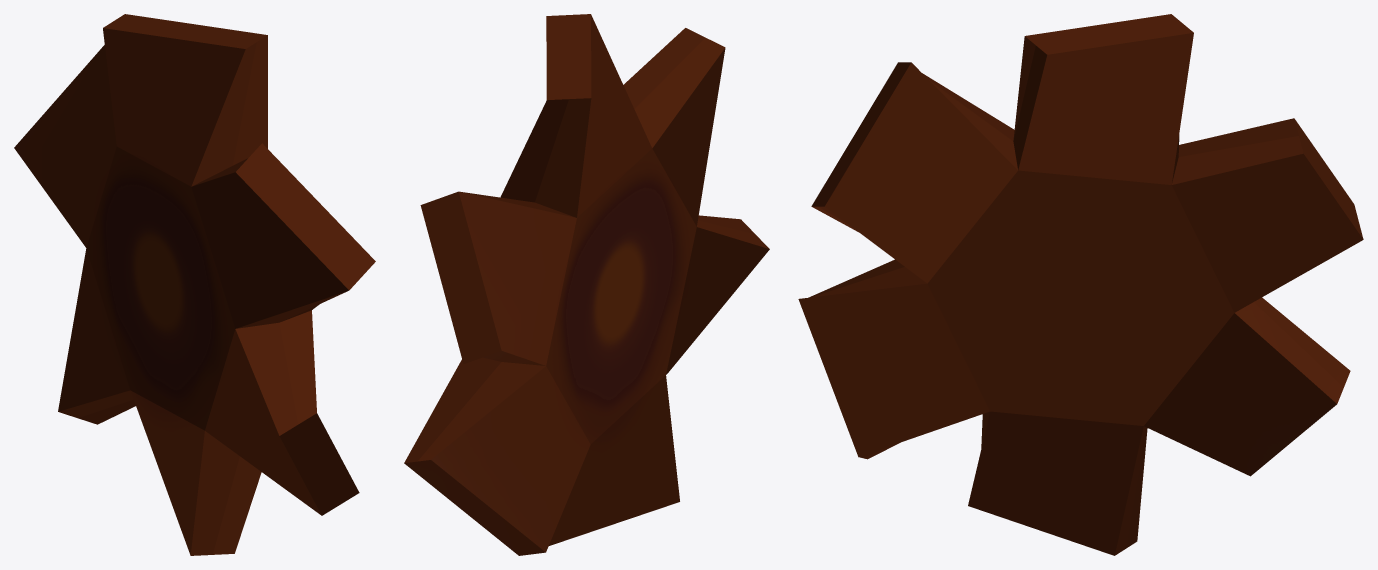
The model's file is waterWheel.fbx.
The picture shows the model from 3 angles, left to right: view 1: azimuth 30°, elevation 25°; view 2: azimuth 150°, elevation 25°; view 3: azimuth 270°, elevation 25°; orthographic projection. The views are drawn at different scales.
Parts seen in each view (by area): view 1: Circle; view 2: Circle; view 3: Circle.
Boxes of the visible parts, box(x1,y1,x2,y2) form: Circle: box(14, 14, 375, 555); Circle: box(404, 14, 769, 555); Circle: box(798, 14, 1363, 555).
Size of the model in its own units: 0.5964 by 2.67 by 2.71.
1 material, 1 textured.
